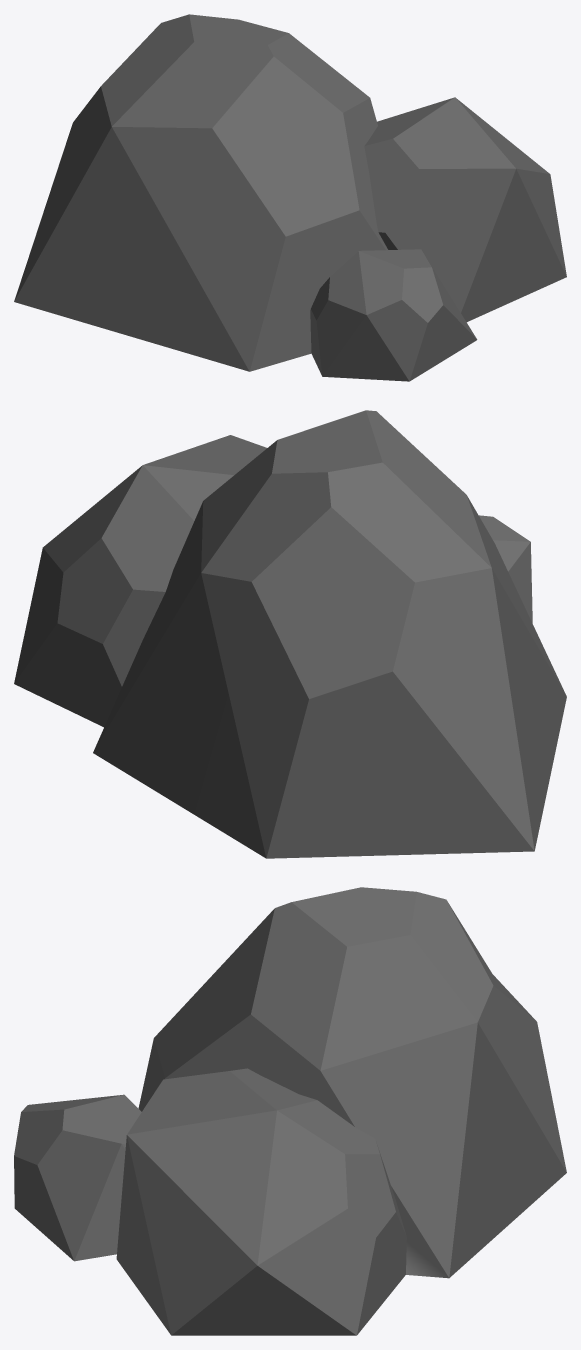
The model's file is ForestStone(1).fbx.
3 views of the same model, one above another, from view 1: azimuth 30°, elevation 25°; view 2: azimuth 150°, elevation 25°; view 3: azimuth 270°, elevation 25° (orthographic). The views are drawn at different scales.
Visible parts, largest first — view 1: Stone(1); view 2: Stone(1); view 3: Stone(1).
Boxes of the visible parts, box(x1,y1,x2,y2) form: Stone(1): box(14, 14, 566, 381); Stone(1): box(14, 410, 566, 858); Stone(1): box(14, 887, 566, 1335).
Size of the model in its own units: 1.63 by 0.8599 by 1.47.
